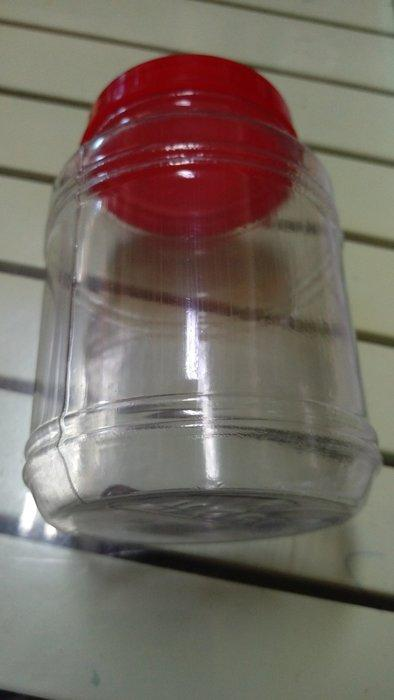metal: (24, 55, 380, 545)
plastic: (24, 55, 380, 545)
